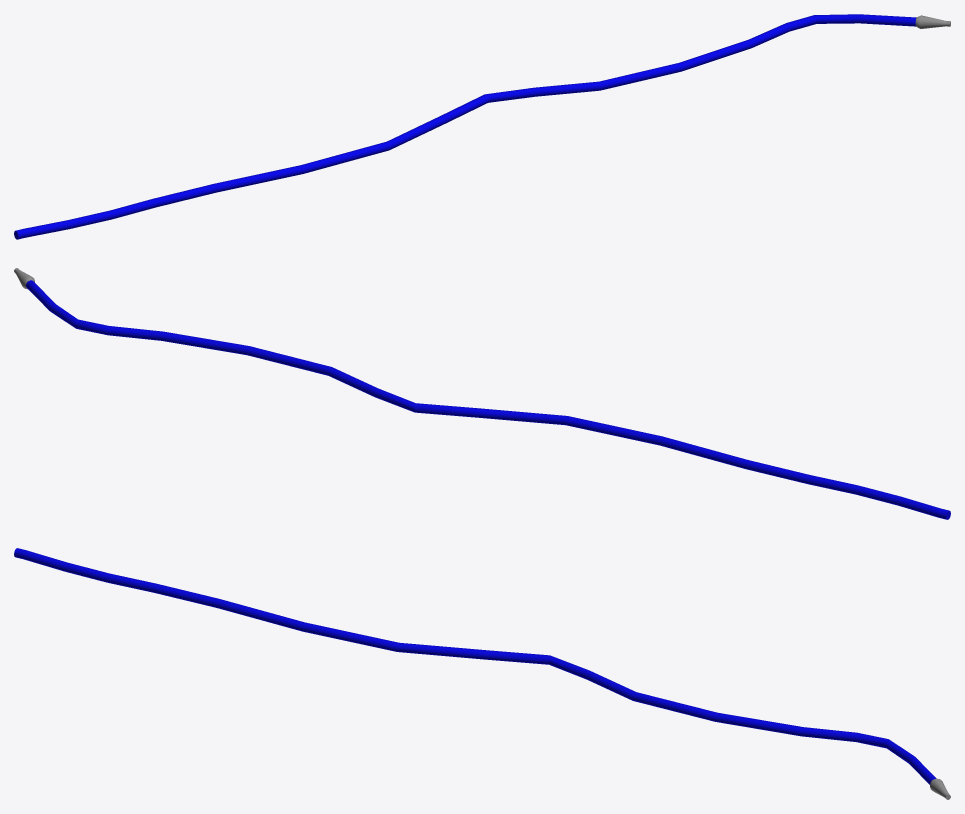
Rendered from PIPE.fbx.
3 views of the same model, one above another, from view 1: azimuth 30°, elevation 25°; view 2: azimuth 150°, elevation 25°; view 3: azimuth 330°, elevation 25° (orthographic). The views are drawn at different scales.
Parts seen in each view (by area): view 1: pCylinder1; view 2: pCylinder1; view 3: pCylinder1.
Part boxes in pixels (x1,y1,x2,y2): pCylinder1: [14, 14, 950, 239]; pCylinder1: [14, 268, 950, 519]; pCylinder1: [14, 548, 950, 799].
Size of the model in its own units: 469 by 6.14 by 37.85.
